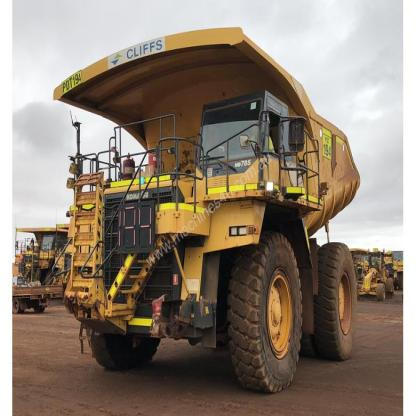dump_truck: (44, 21, 358, 388)
